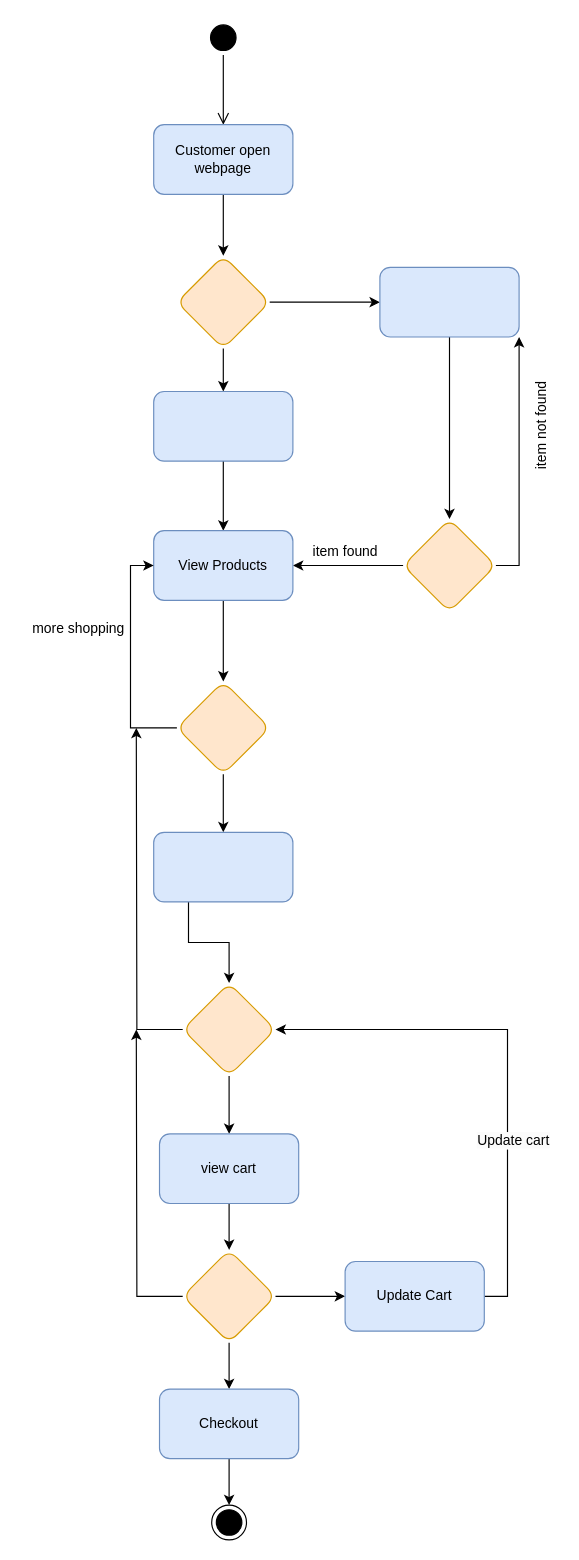
Some shapes in this 579 by 1560 pixel diagram are drawn without their labels. Here are the shapes that lost their labels. From the top down, the box of each, then its label:
(379, 266, 519, 337): Search for Products
(153, 390, 293, 461): Browse Products
(153, 831, 293, 902): Add to cart
